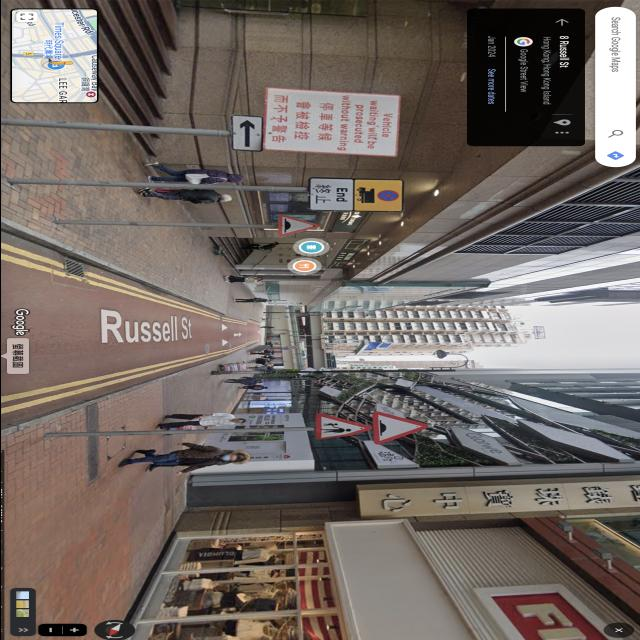Order-Sign: (265, 87, 400, 155), (309, 180, 403, 211)
Warning-Sign: (373, 411, 430, 445), (314, 412, 372, 442), (278, 214, 320, 237)
